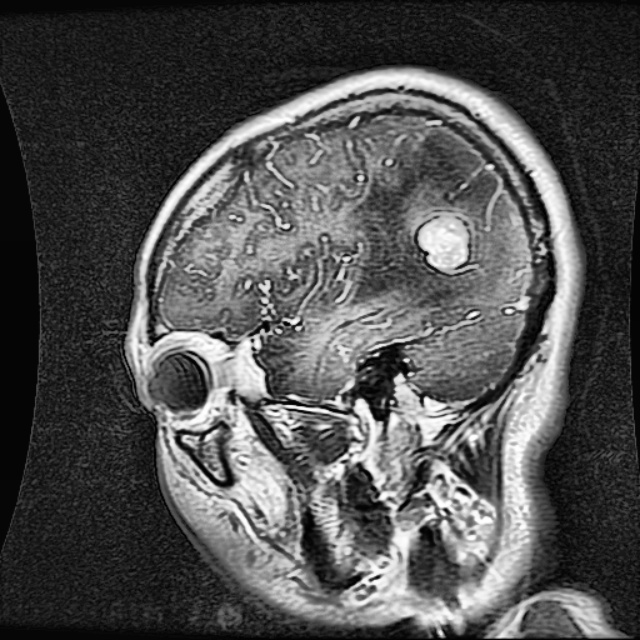Meningioma: (415, 215, 469, 272)
